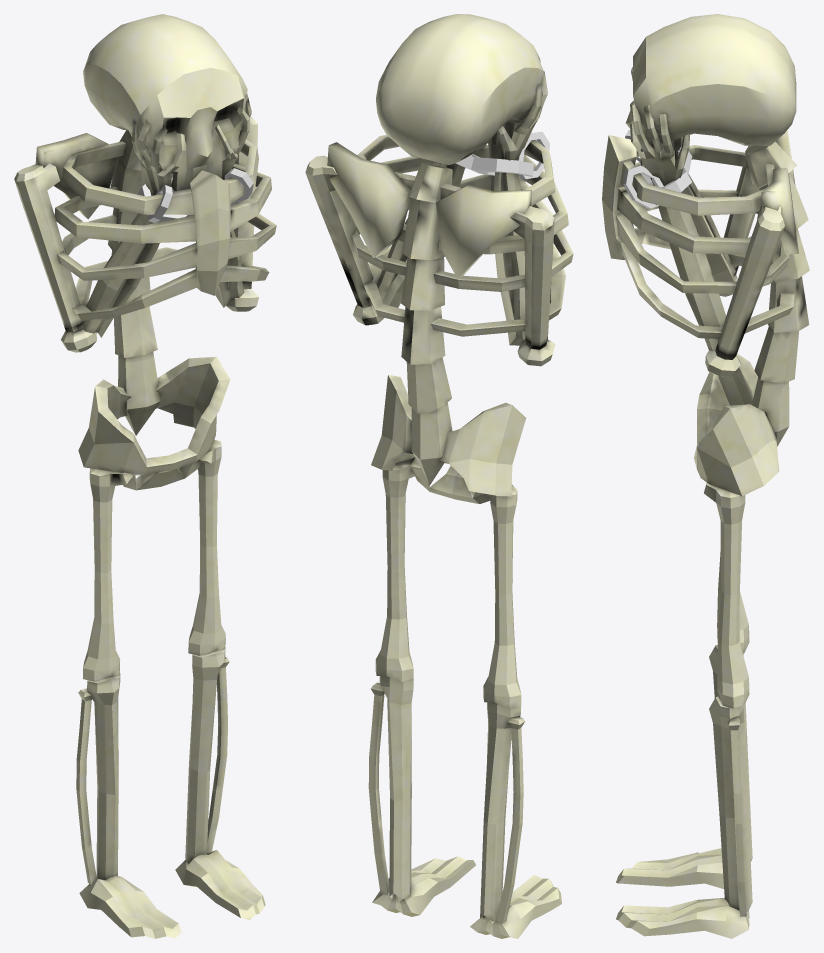
Rendered from BarrelKin_MERGE.fbx.
3 views of the same model, side by side, from view 1: azimuth 30°, elevation 25°; view 2: azimuth 150°, elevation 25°; view 3: azimuth 270°, elevation 25° (orthographic). The views are drawn at different scales.
Parts seen in each view (by area): view 1: UpperBody, Hands, LowerBody, TibiaR, TibiaL, FemurR, FemurL, FeetR, FeetL, Shackles; view 2: UpperBody, Hands, LowerBody, TibiaL, TibiaR, FemurL, FemurR, FeetL, FeetR, Shackles; view 3: UpperBody, Hands, LowerBody, TibiaL, FemurL, FeetL, FeetR, Shackles, TibiaR, FemurR.
Boxes of the visible parts, x1=… form: UpperBody: x1=14, y1=117, x2=276, y2=352; Hands: x1=83, y1=14, x2=251, y2=195; LowerBody: x1=78, y1=306, x2=230, y2=490; TibiaR: x1=76, y1=673, x2=120, y2=884; TibiaL: x1=185, y1=647, x2=229, y2=862; FemurR: x1=83, y1=468, x2=133, y2=681; FemurL: x1=188, y1=439, x2=225, y2=655; FeetR: x1=79, y1=875, x2=181, y2=938; FeetL: x1=175, y1=850, x2=265, y2=919; Shackles: x1=137, y1=168, x2=253, y2=223; UpperBody: x1=305, y1=123, x2=573, y2=366; Hands: x1=376, y1=14, x2=547, y2=164; LowerBody: x1=371, y1=357, x2=526, y2=503; TibiaL: x1=368, y1=676, x2=413, y2=899; TibiaR: x1=480, y1=702, x2=525, y2=923; FemurL: x1=375, y1=457, x2=415, y2=681; FemurR: x1=483, y1=484, x2=521, y2=708; FeetL: x1=372, y1=856, x2=475, y2=916; FeetR: x1=470, y1=875, x2=561, y2=938; Shackles: x1=455, y1=131, x2=549, y2=179; UpperBody: x1=602, y1=130, x2=809, y2=376; Hands: x1=625, y1=14, x2=796, y2=185; LowerBody: x1=694, y1=326, x2=798, y2=496; TibiaL: x1=709, y1=696, x2=752, y2=916; FemurL: x1=704, y1=483, x2=749, y2=708; FeetL: x1=616, y1=898, x2=749, y2=938; FeetR: x1=616, y1=848, x2=723, y2=888; Shackles: x1=623, y1=130, x2=692, y2=208; TibiaR: x1=709, y1=644, x2=752, y2=861; FemurR: x1=717, y1=547, x2=749, y2=653.
Size of the model in its own units: 0.5426 by 0.403 by 1.9.
